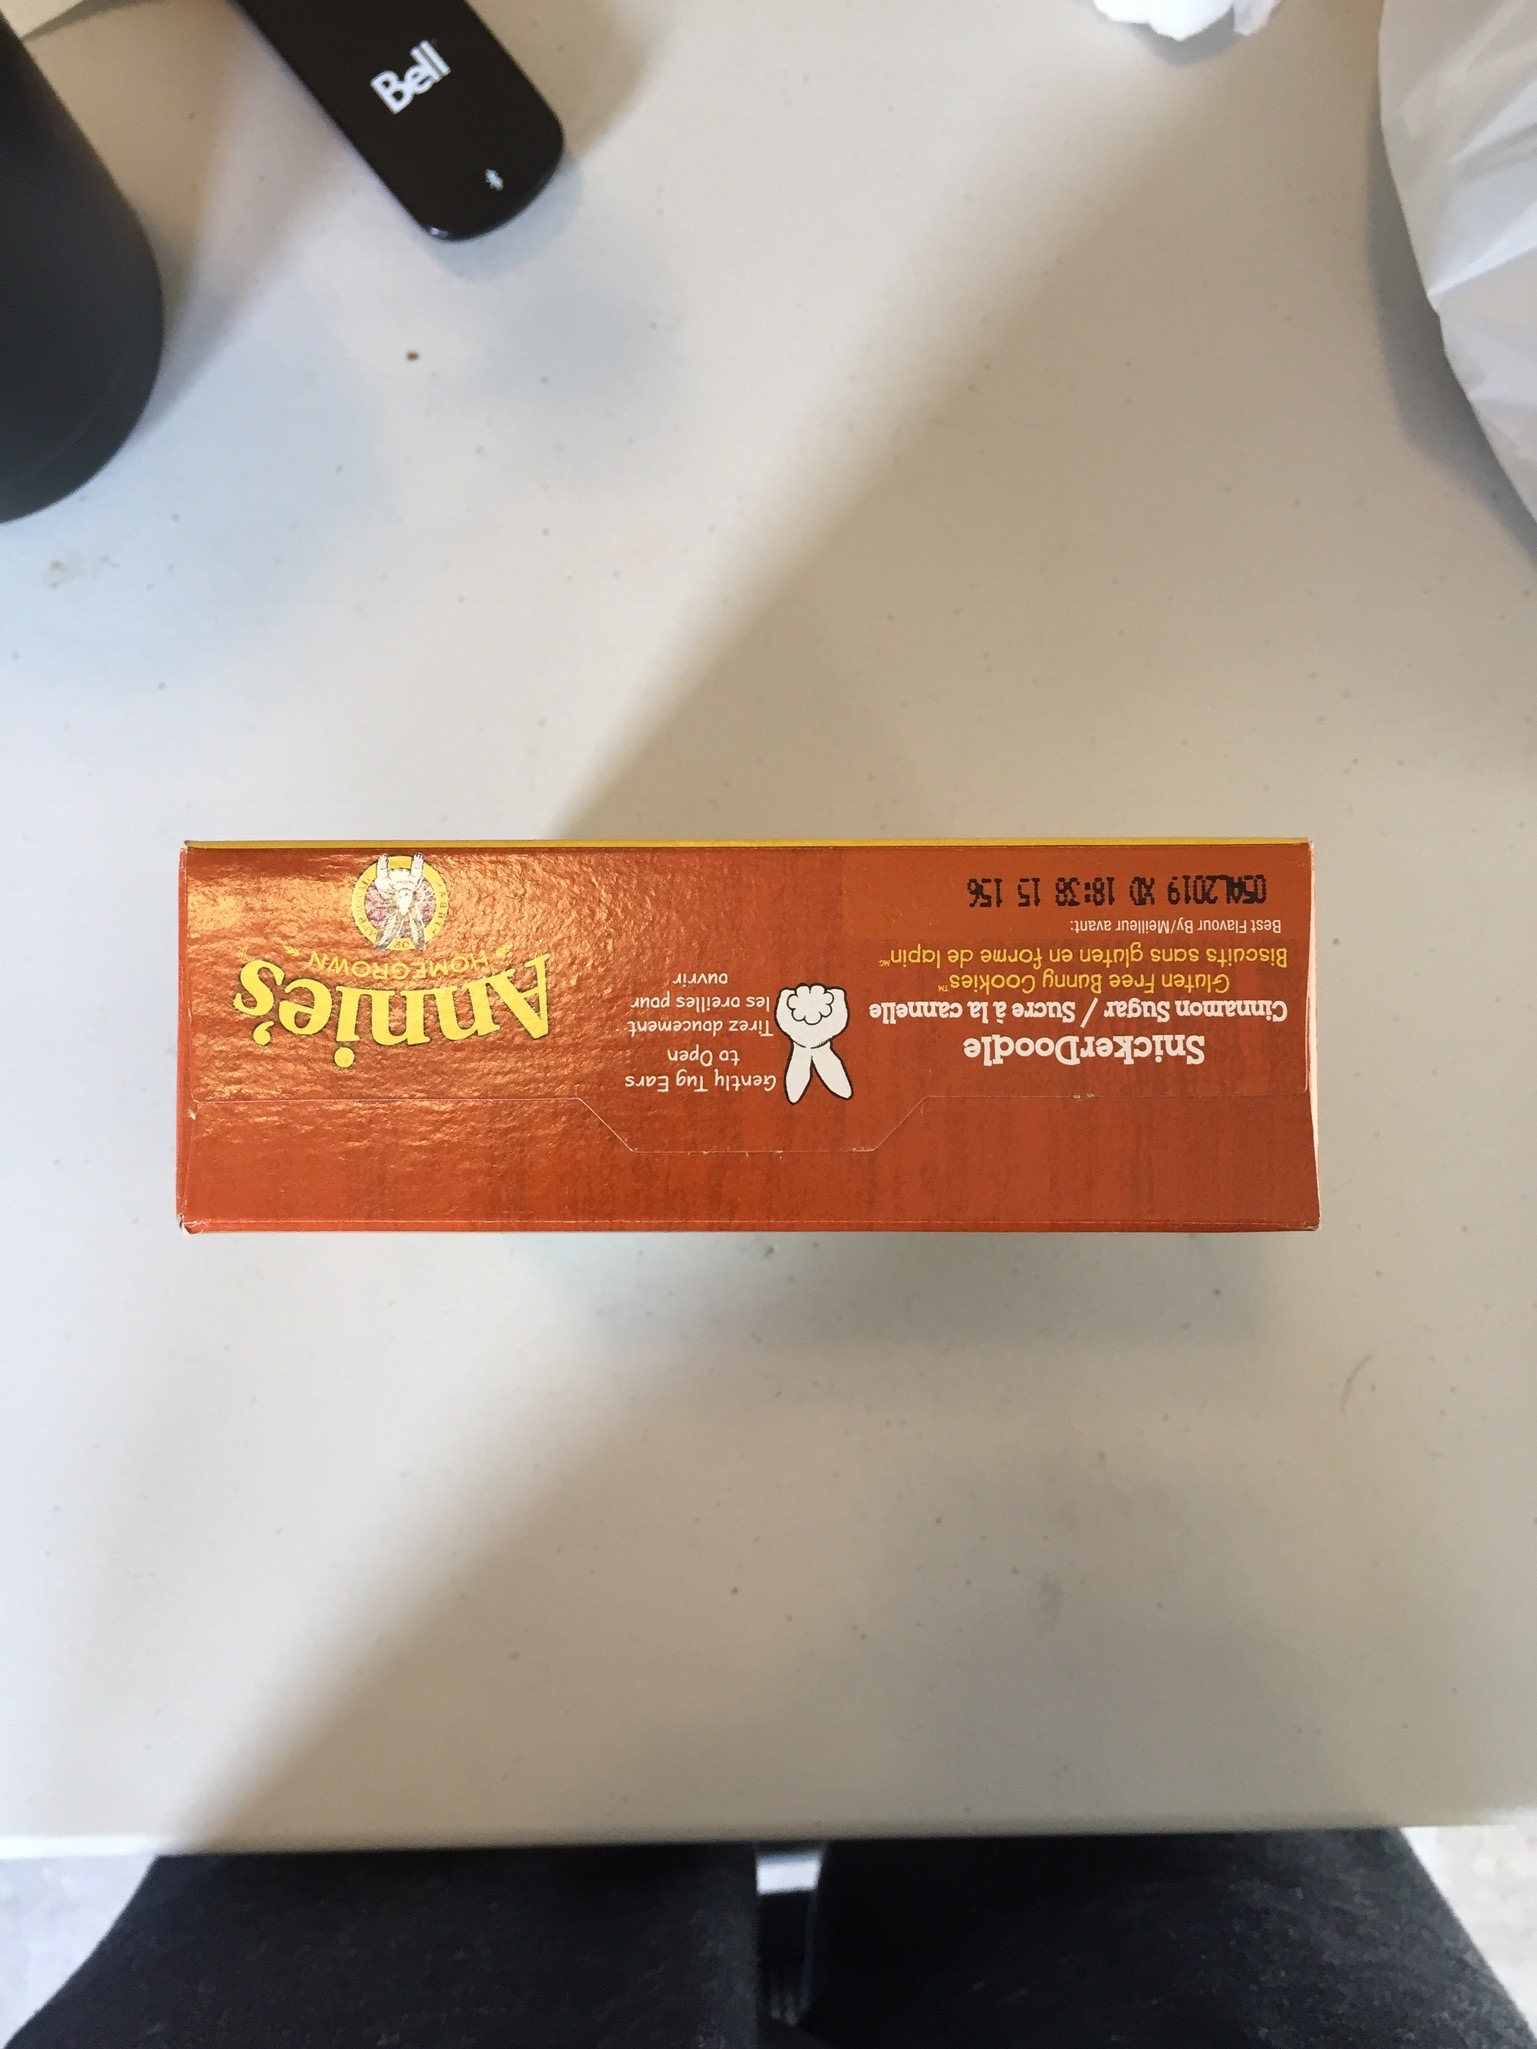annies_snickerdoodles_cinnamon_sugar: (187, 854, 1295, 1216)
